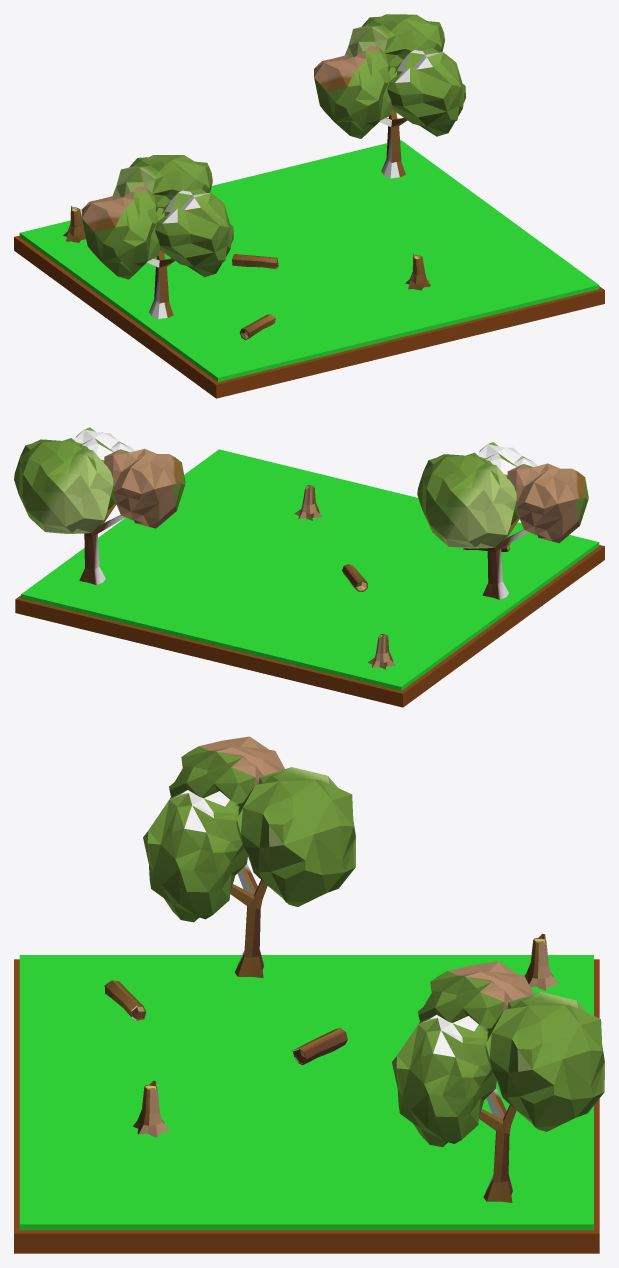
File: battleArena.glb
The picture shows the model from 3 angles, top to bottom: view 1: azimuth 30°, elevation 25°; view 2: azimuth 150°, elevation 25°; view 3: azimuth 270°, elevation 25°; orthographic projection. The views are drawn at different scales.
Visible parts, largest first — view 1: Cube.001, Tree_average_lush.001, Tree_average_lush.003, Cube, Log_big_regular.001, Stump_average_high, Stump_average_high.001; view 2: Cube.001, Tree_average_lush.003, Tree_average_lush.001, Cube, Stump_average_high, Stump_average_high.001, Log_big_regular.001; view 3: Cube.001, Tree_average_lush.001, Tree_average_lush.003, Cube, Stump_average_high, Stump_average_high.001, Log_big_regular.001, Log_big_regular.
Part boxes in pixels (<box>): Cube.001: <box>19,140,599,381</box>; Tree_average_lush.001: <box>314,14,465,178</box>; Tree_average_lush.003: <box>81,155,233,319</box>; Cube: <box>14,235,604,398</box>; Log_big_regular.001: <box>232,254,278,269</box>; Stump_average_high: <box>405,253,430,290</box>; Stump_average_high.001: <box>63,205,85,242</box>; Cube.001: <box>21,449,599,690</box>; Tree_average_lush.003: <box>417,442,588,599</box>; Tree_average_lush.001: <box>14,427,185,585</box>; Cube: <box>15,545,604,707</box>; Stump_average_high: <box>294,485,322,520</box>; Stump_average_high.001: <box>368,634,395,669</box>; Log_big_regular.001: <box>342,564,367,591</box>; Cube.001: <box>19,955,593,1230</box>; Tree_average_lush.001: <box>392,961,604,1202</box>; Tree_average_lush.003: <box>143,736,355,978</box>; Cube: <box>14,959,599,1253</box>; Stump_average_high: <box>133,1080,169,1137</box>; Stump_average_high.001: <box>524,933,558,990</box>; Log_big_regular.001: <box>292,1027,347,1064</box>; Log_big_regular: <box>104,980,146,1020</box>.
Bounding box in the file's own units: 17.42 × 5.79 × 13.4.
9 materials, 7 textured.
